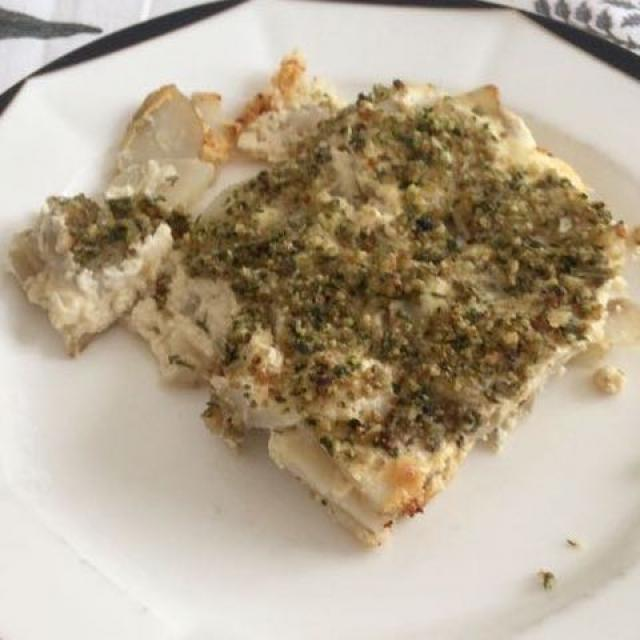vegetables-baked: (21, 57, 629, 539)
